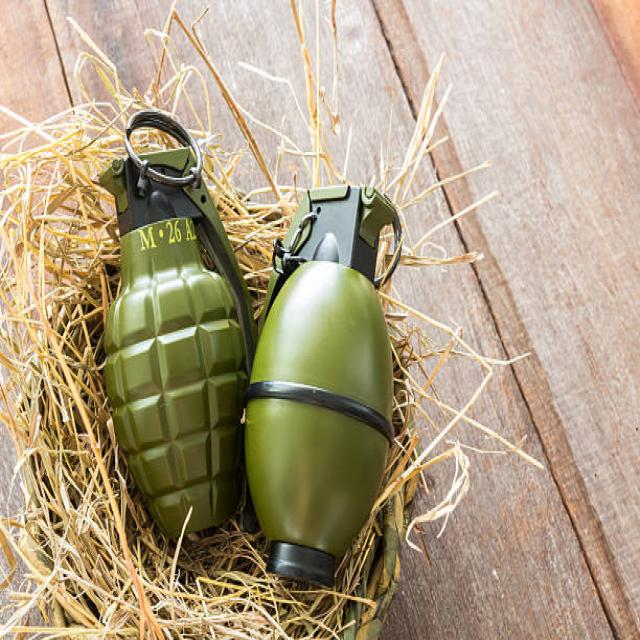grenade: (98, 112, 261, 539), (245, 180, 408, 588)
